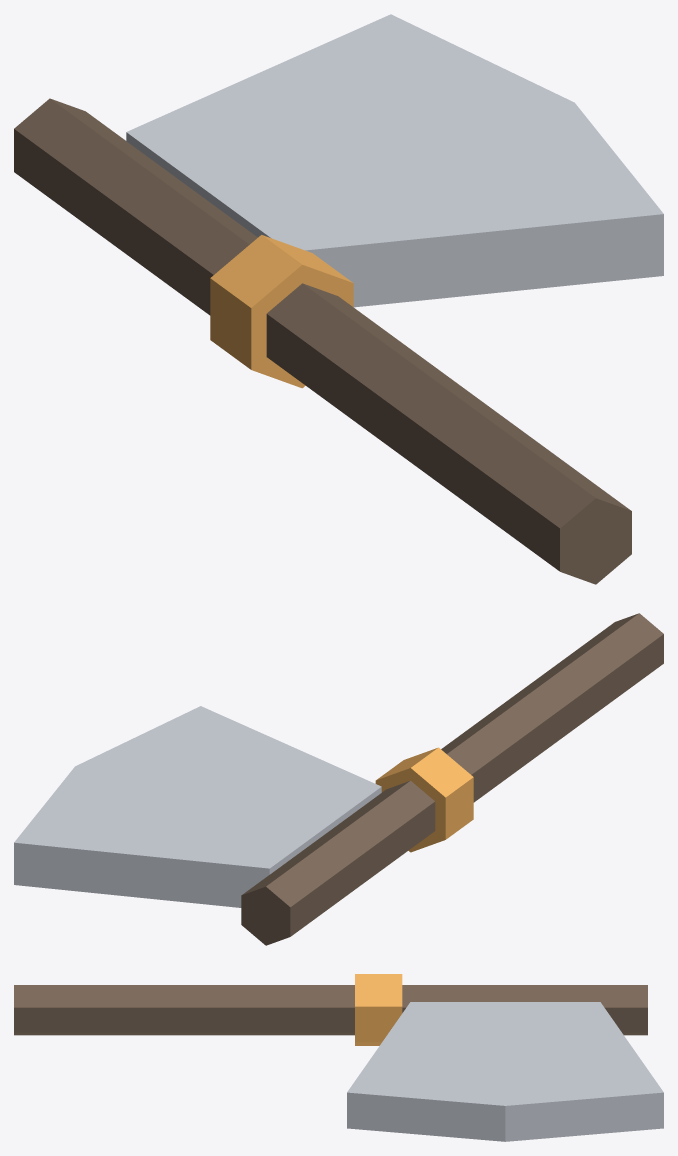
The model's file is axe_light.glb.
3 views of the same model, one above another, from view 1: azimuth 30°, elevation 25°; view 2: azimuth 150°, elevation 25°; view 3: azimuth 270°, elevation 25° (orthographic). The views are drawn at different scales.
Visible parts, largest first — view 1: axe_light; view 2: axe_light; view 3: axe_light.
Boxes of the visible parts, x1,y1,x2,y2 form: axe_light: (14, 14, 663, 584); axe_light: (14, 613, 663, 945); axe_light: (14, 974, 663, 1141).
Bounding box in the file's own units: 0.3833 × 0.1 × 0.82.
